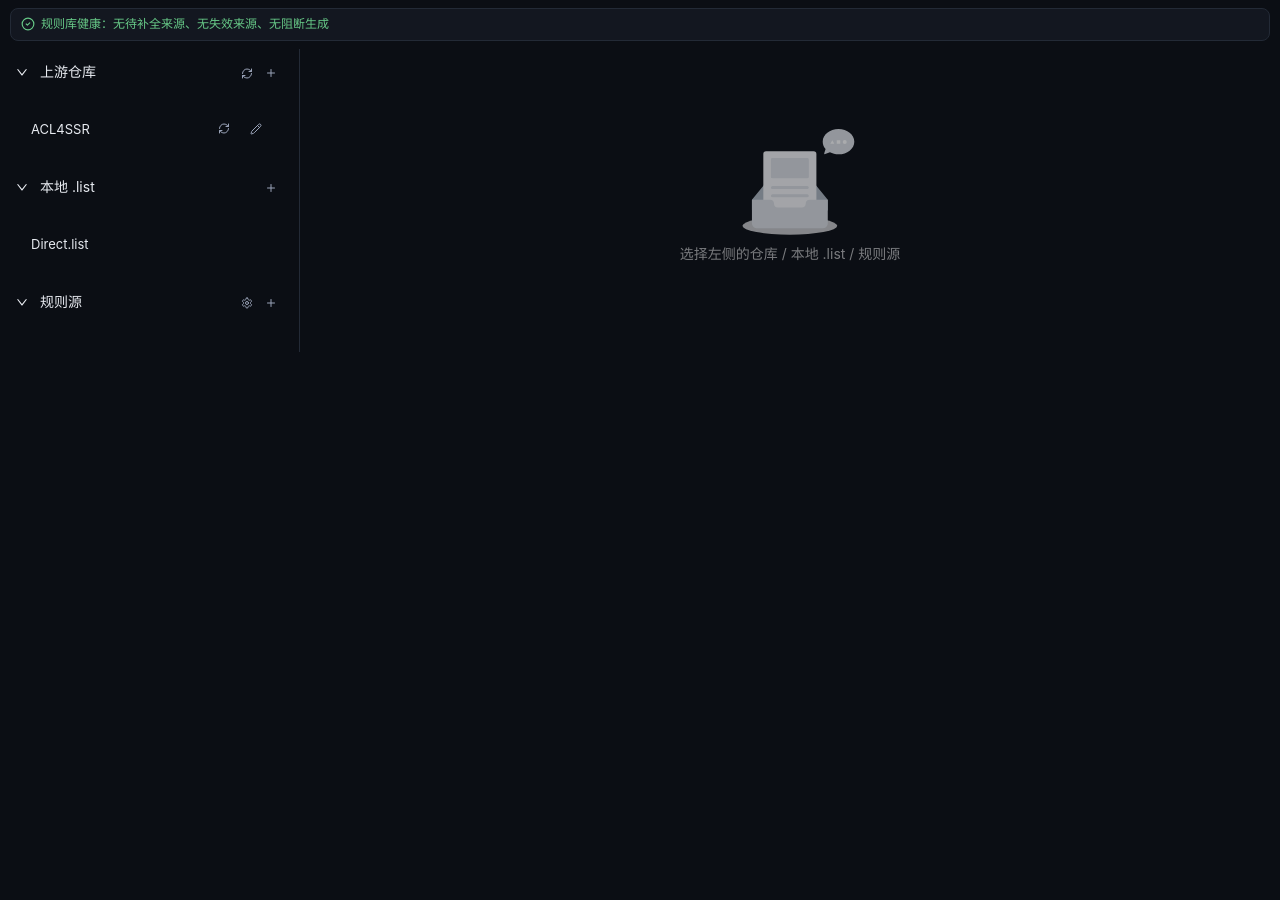
Scenario: repo management entry › opens the add-repo modal from the sidebar repo group header
Check: the text "ACL4SSR" is shown, box [31,121,90,137]
Click the button named "添加上游仓库": (271, 73) [259,61,283,85]
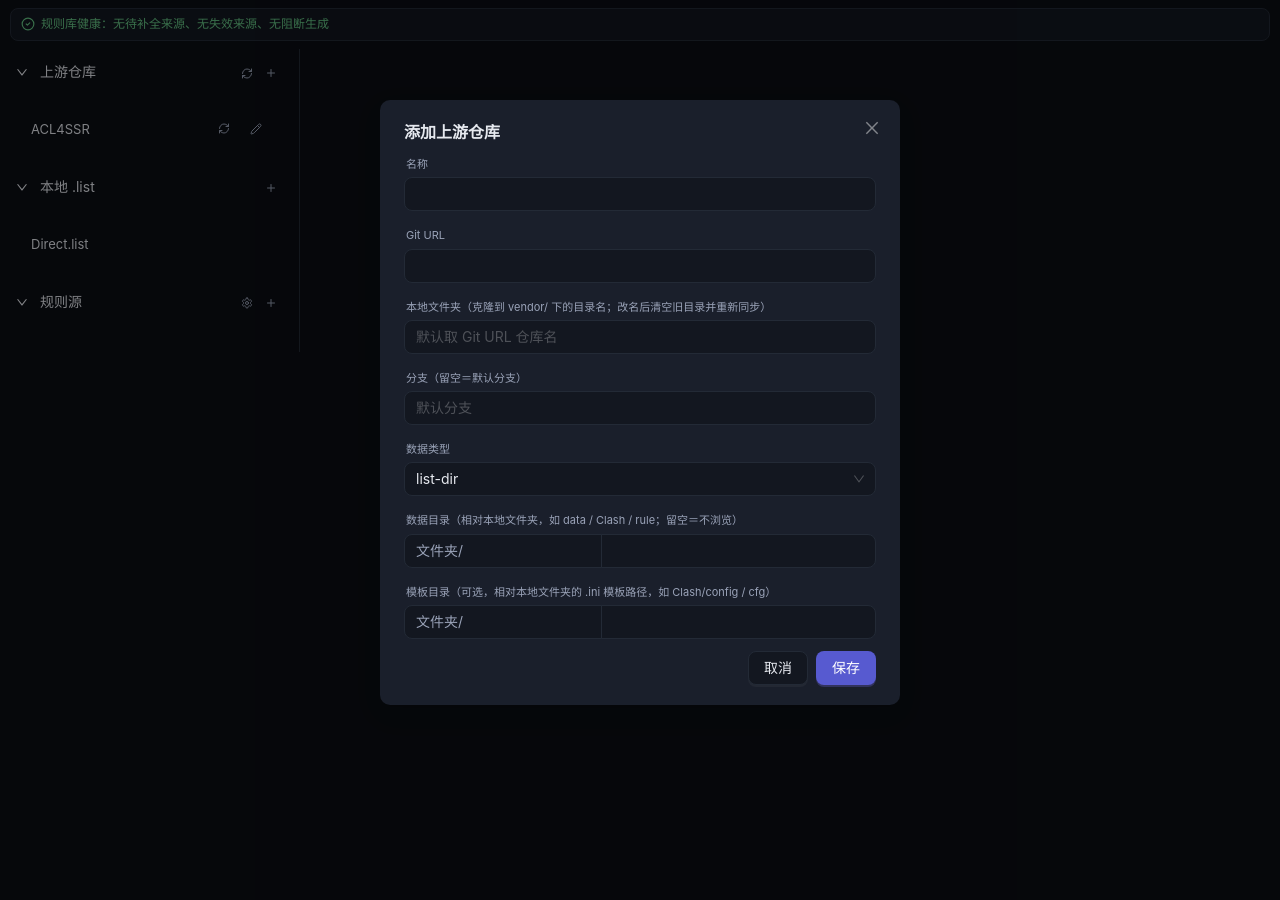
Check: the dialog "添加上游仓库" is shown, box [380,100,900,729]
